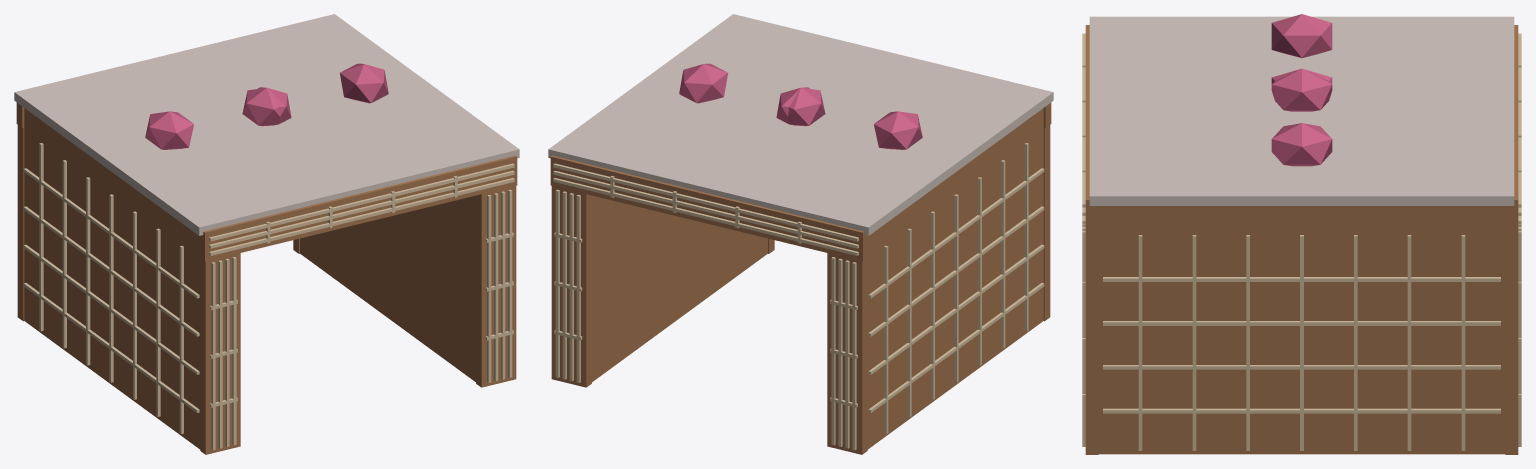
File: Candyland_WaferTunnel_Standard.glb
3 views of the same model, side by side, from view 1: azimuth 30°, elevation 25°; view 2: azimuth 150°, elevation 25°; view 3: azimuth 270°, elevation 25° (orthographic). The views are drawn at different scales.
Visible parts, largest first — view 1: Candyland_WaferTunnel_Standard; view 2: Candyland_WaferTunnel_Standard; view 3: Candyland_WaferTunnel_Standard.
Boxes of the visible parts, x1=… form: Candyland_WaferTunnel_Standard: x1=14, y1=14, x2=519, y2=454; Candyland_WaferTunnel_Standard: x1=548, y1=14, x2=1053, y2=454; Candyland_WaferTunnel_Standard: x1=1082, y1=14, x2=1521, y2=454.
Bounding box in the file's own units: 3.95 × 3.07 × 4.09.
